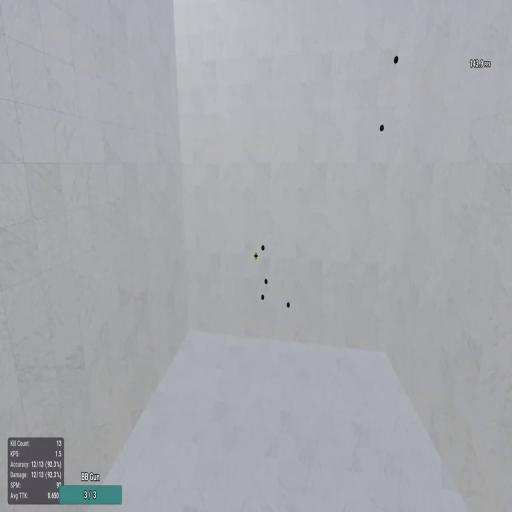Crosshair: (252, 250, 260, 262)
Target: (378, 122, 386, 134), (392, 54, 400, 64), (264, 277, 268, 286), (286, 301, 290, 309), (261, 294, 265, 301), (261, 244, 265, 251)
